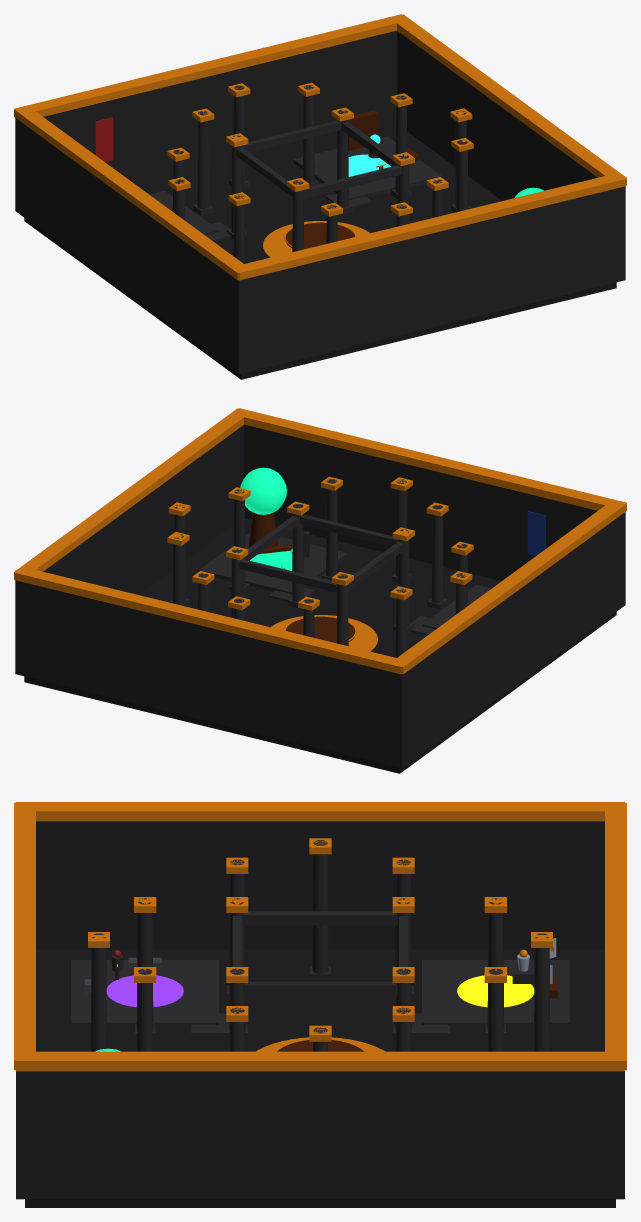
The model's file is high-fantasy-lobby.glb.
3 views of the same model, one above another, from view 1: azimuth 30°, elevation 25°; view 2: azimuth 150°, elevation 25°; view 3: azimuth 270°, elevation 25° (orthographic). The views are drawn at different scales.
Visible parts, largest first — view 1: object 7, object 6, object 9, Hall_Floor, object 8, object 11, object 10, object 13, object 12, Sorcerer_Dais, Column_10, object 63 (+18 smaller); view 2: object 6, object 7, object 9, Hall_Floor, object 8, object 10, object 11, object 13, object 12, Druid_Dais, object 94, Column_14 (+19 smaller); view 3: object 8, object 9, Hall_Floor, object 12, object 13, Rogue_Dais, Paladin_Dais, object 11, object 10, object 7, object 6, object 64 (+11 smaller).
Boxes of the visible parts, bbox=[...] form: object 7: bbox=[232, 186, 625, 374]; object 6: bbox=[15, 30, 397, 215]; object 9: bbox=[15, 119, 250, 373]; Hall_Floor: bbox=[24, 124, 616, 379]; object 8: bbox=[397, 31, 625, 282]; object 11: bbox=[231, 173, 626, 280]; object 10: bbox=[14, 14, 408, 116]; object 13: bbox=[14, 106, 248, 280]; object 12: bbox=[390, 14, 626, 184]; Sorcerer_Dais: bbox=[293, 136, 441, 200]; Column_10: bbox=[197, 111, 209, 208]; object 63: bbox=[303, 165, 401, 198]; object 6: bbox=[15, 580, 408, 768]; object 7: bbox=[243, 424, 625, 605]; object 9: bbox=[390, 512, 625, 768]; Hall_Floor: bbox=[24, 518, 616, 773]; object 8: bbox=[15, 425, 243, 674]; object 10: bbox=[14, 567, 409, 674]; object 11: bbox=[232, 408, 626, 510]; object 13: bbox=[397, 500, 626, 674]; object 12: bbox=[14, 408, 250, 578]; Druid_Dais: bbox=[199, 533, 347, 594]; object 94: bbox=[240, 467, 286, 514]; Column_14: bbox=[431, 505, 443, 602]; object 8: bbox=[16, 1071, 624, 1199]; object 9: bbox=[36, 821, 604, 949]; Hall_Floor: bbox=[25, 949, 615, 1207]; object 12: bbox=[16, 1051, 624, 1071]; object 13: bbox=[16, 802, 624, 821]; Rogue_Dais: bbox=[71, 960, 218, 1027]; Paladin_Dais: bbox=[422, 960, 569, 1027]; object 11: bbox=[14, 803, 35, 1070]; object 10: bbox=[605, 803, 626, 1070]; object 7: bbox=[16, 1071, 34, 1199]; object 6: bbox=[606, 1071, 624, 1199]; object 64: bbox=[243, 911, 397, 925].
Bounding box in the file's own units: 66.4 × 18.1 × 66.4.
